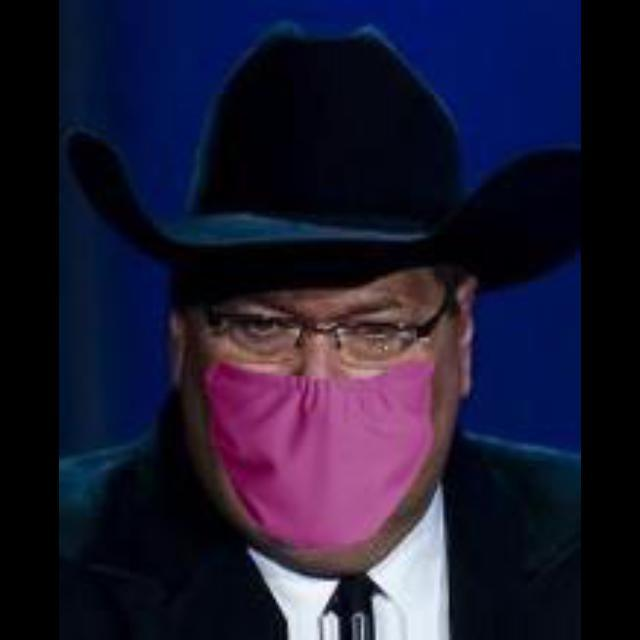suspicion: (160, 129, 524, 636)
